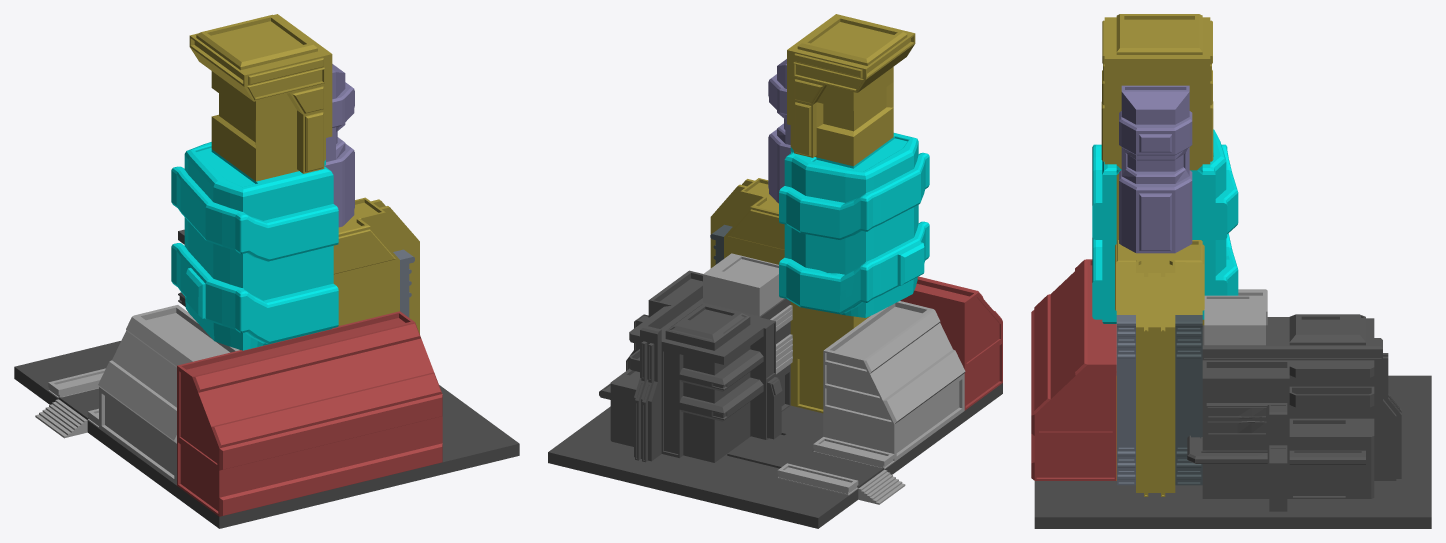
File: 4 Test Different Export.fbx
The picture shows the model from 3 angles, left to right: view 1: azimuth 30°, elevation 25°; view 2: azimuth 150°, elevation 25°; view 3: azimuth 270°, elevation 25°; orthographic projection. The views are drawn at different scales.
Visible parts, largest first — view 1: rear_building, Curved_Wrap, Tol_Boi, Bottom, Right_Building, Side, Stairs, GRassPatchLEft, Left_Clad; view 2: Base, Tol_Boi, Curved_Wrap, Bottom, Right_Building, rear_building, Storage_Thing, Side, GRassPatchLEft, GrassPatchRight, Stairs; view 3: Base, Tol_Boi, Bottom, rear_building, Side, Curved_Wrap, Left_Clad1, Left_Clad, Storage_Thing.
Boxes of the visible parts, x1,y1,x2,y2 form: rear_building: (177,311,442,516); Curved_Wrap: (171,142,338,350); Tol_Boi: (189,14,419,333); Bottom: (14,341,519,528); Right_Building: (98,305,239,485); Side: (325,64,354,227); Stairs: (35,399,87,438); GRassPatchLEft: (48,368,105,398); Left_Clad: (393,249,414,317); Base: (599,270,790,462); Tol_Boi: (710,14,915,413); Curved_Wrap: (779,133,929,317); Bottom: (548,383,1002,528); Right_Building: (823,301,965,461); rear_building: (900,276,1002,410); Storage_Thing: (703,253,783,316); Side: (768,59,790,203); GRassPatchLEft: (777,463,858,495); GrassPatchRight: (813,437,894,469); Stairs: (858,470,905,504); Base: (1187,314,1401,511); Tol_Boi: (1101,14,1213,496); Bottom: (1034,375,1431,528); rear_building: (1031,259,1116,480); Side: (1119,85,1192,253); Curved_Wrap: (1092,129,1238,323); Left_Clad1: (1175,315,1202,485); Left_Clad: (1117,315,1135,485); Storage_Thing: (1204,295,1265,345).
Size of the model in its own units: 27.91 by 34.47 by 30.88.
